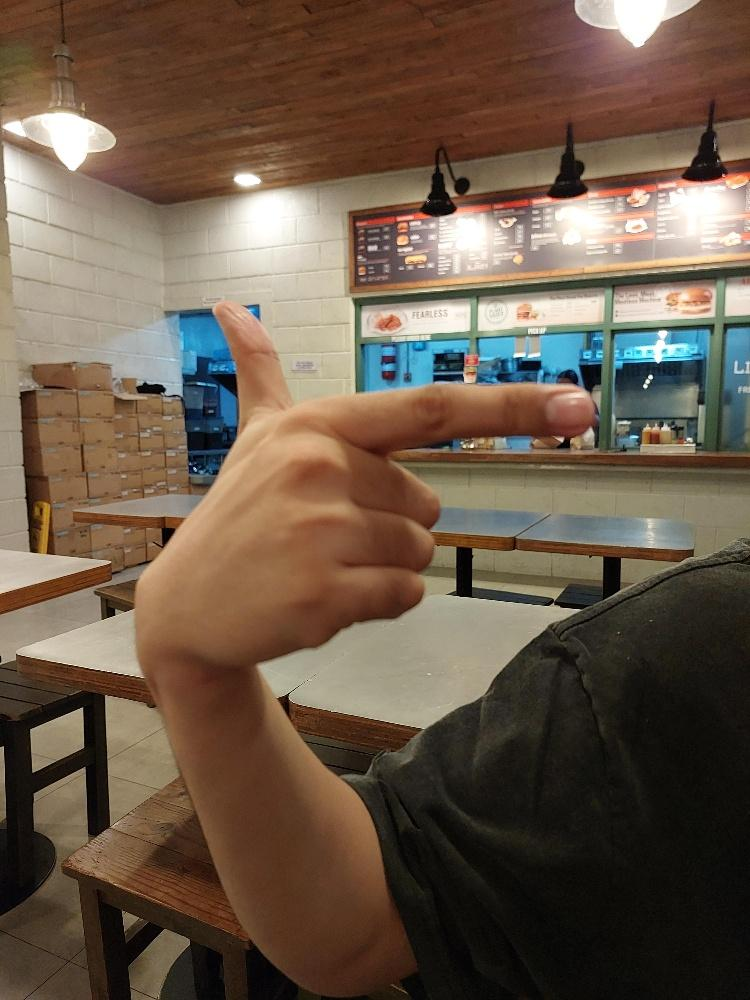g: (130, 297, 596, 668)
